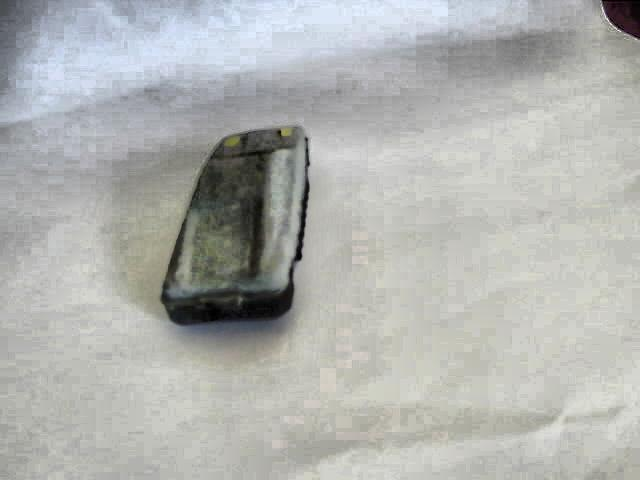normal_car: (156, 125, 313, 328)
